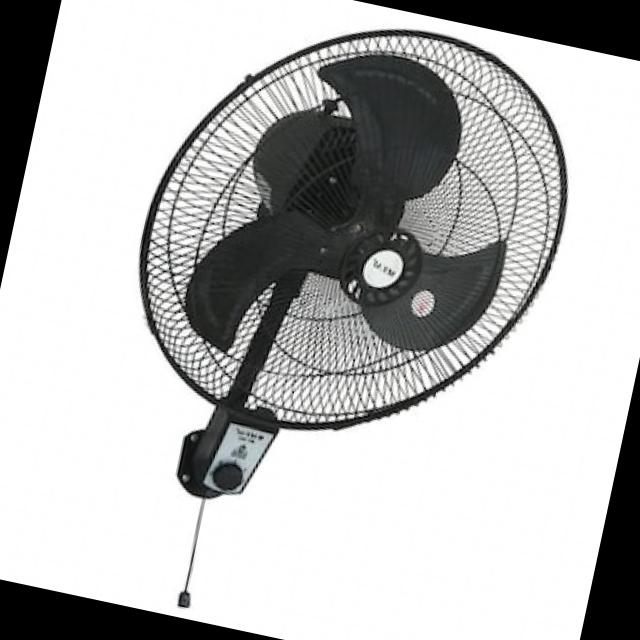fan: (55, 0, 622, 640)
